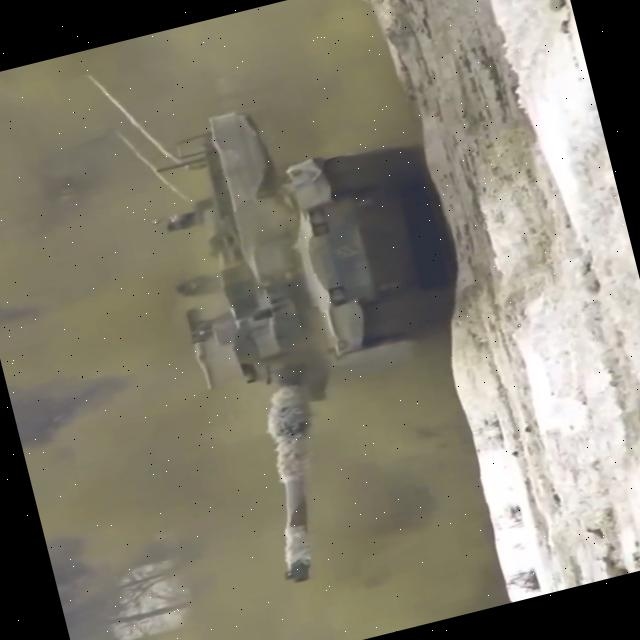korea tank: (136, 64, 527, 597)
